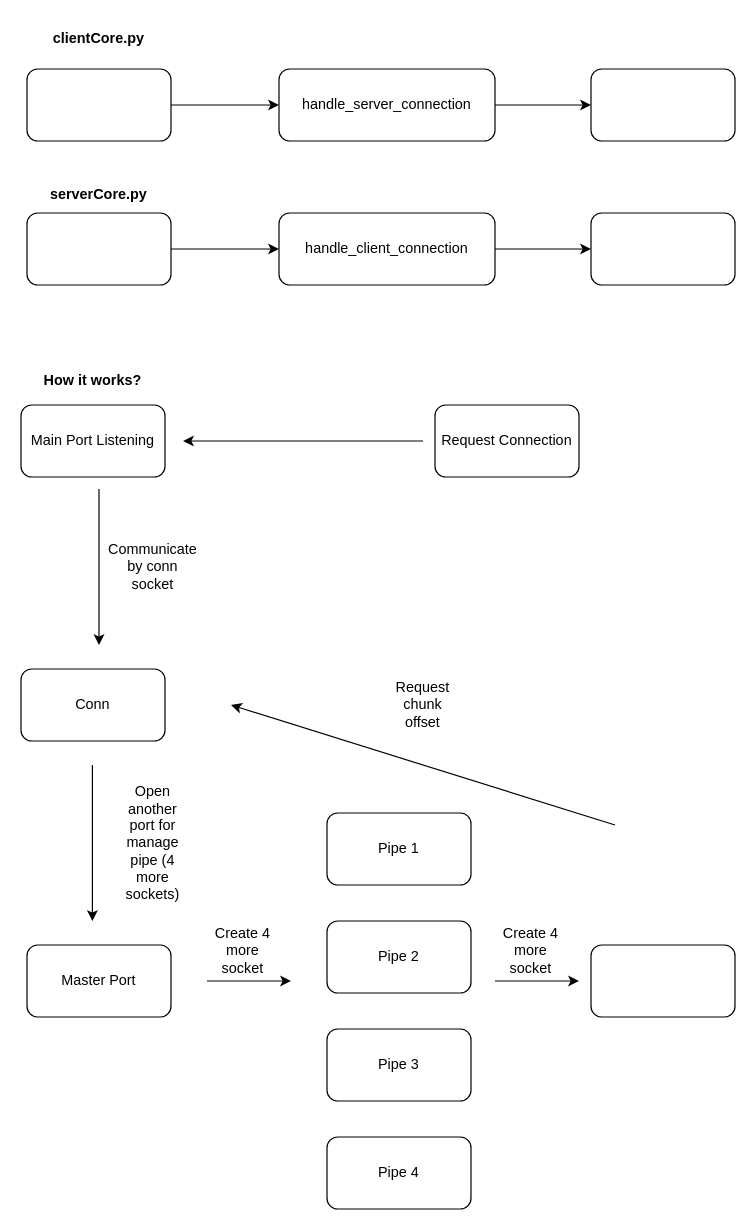
This 756x1230 diagram has some shape labels left out. Each missing label, with the centre of its shape:
"connect_to_server" belongs at point 98,104.
"create_server" belongs at point 98,248.
"Data" belongs at point 662,980.
"receive_chunk" belongs at point 662,104.
"send_chunk" belongs at point 662,248.
